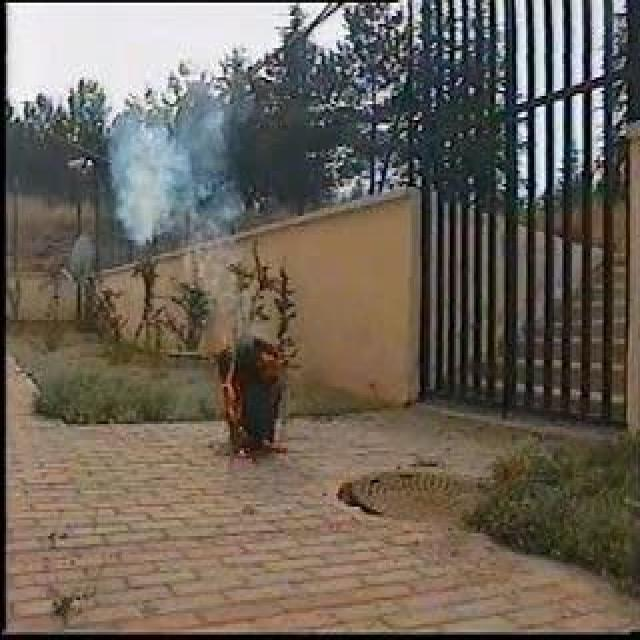fire: (221, 358, 245, 438)
smoke: (110, 127, 212, 241)
